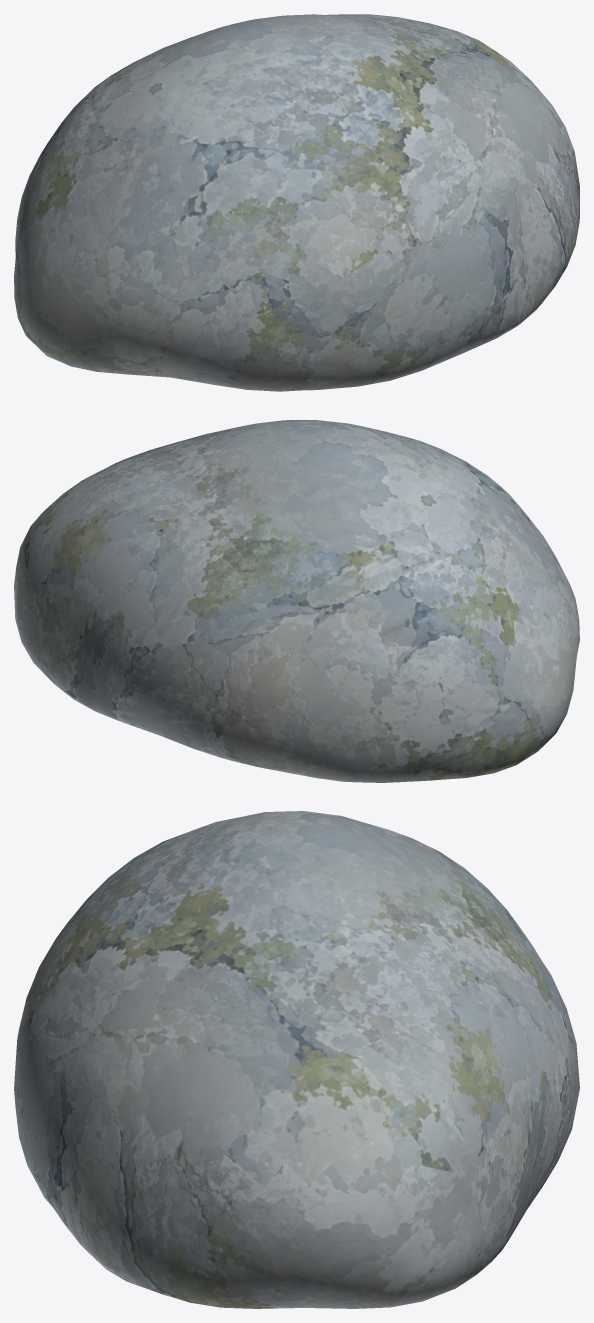
Rendered from SM_SmoothForestRock_03.fbx.
3 views of the same model, one above another, from view 1: azimuth 30°, elevation 25°; view 2: azimuth 150°, elevation 25°; view 3: azimuth 270°, elevation 25° (orthographic). The views are drawn at different scales.
Visible parts, largest first — view 1: SM_SmoothForestRock_03; view 2: SM_SmoothForestRock_03; view 3: SM_SmoothForestRock_03.
Part boxes in pixels (x1=…): SM_SmoothForestRock_03: x1=14, y1=14, x2=579, y2=391; SM_SmoothForestRock_03: x1=14, y1=420, x2=579, y2=782; SM_SmoothForestRock_03: x1=14, y1=811, x2=579, y2=1308.
Bounding box in the file's own units: 3.16 × 2.38 × 1.59.
